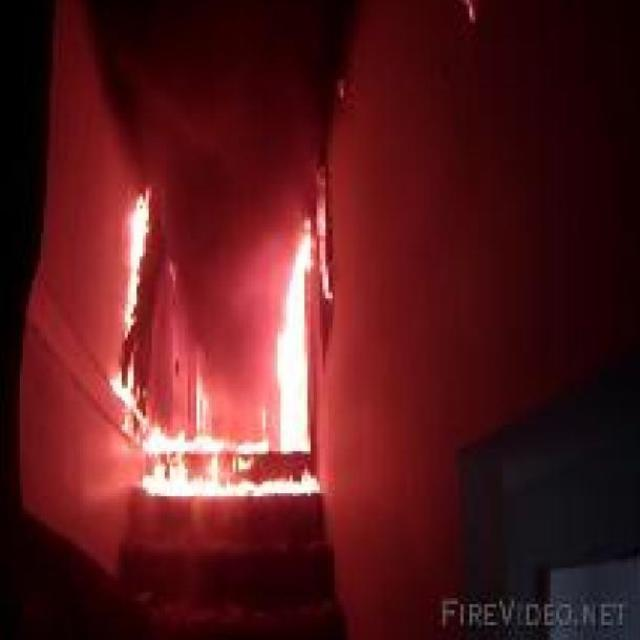smoke: (274, 230, 317, 454), (139, 456, 325, 500), (115, 184, 156, 338), (108, 357, 138, 410)
